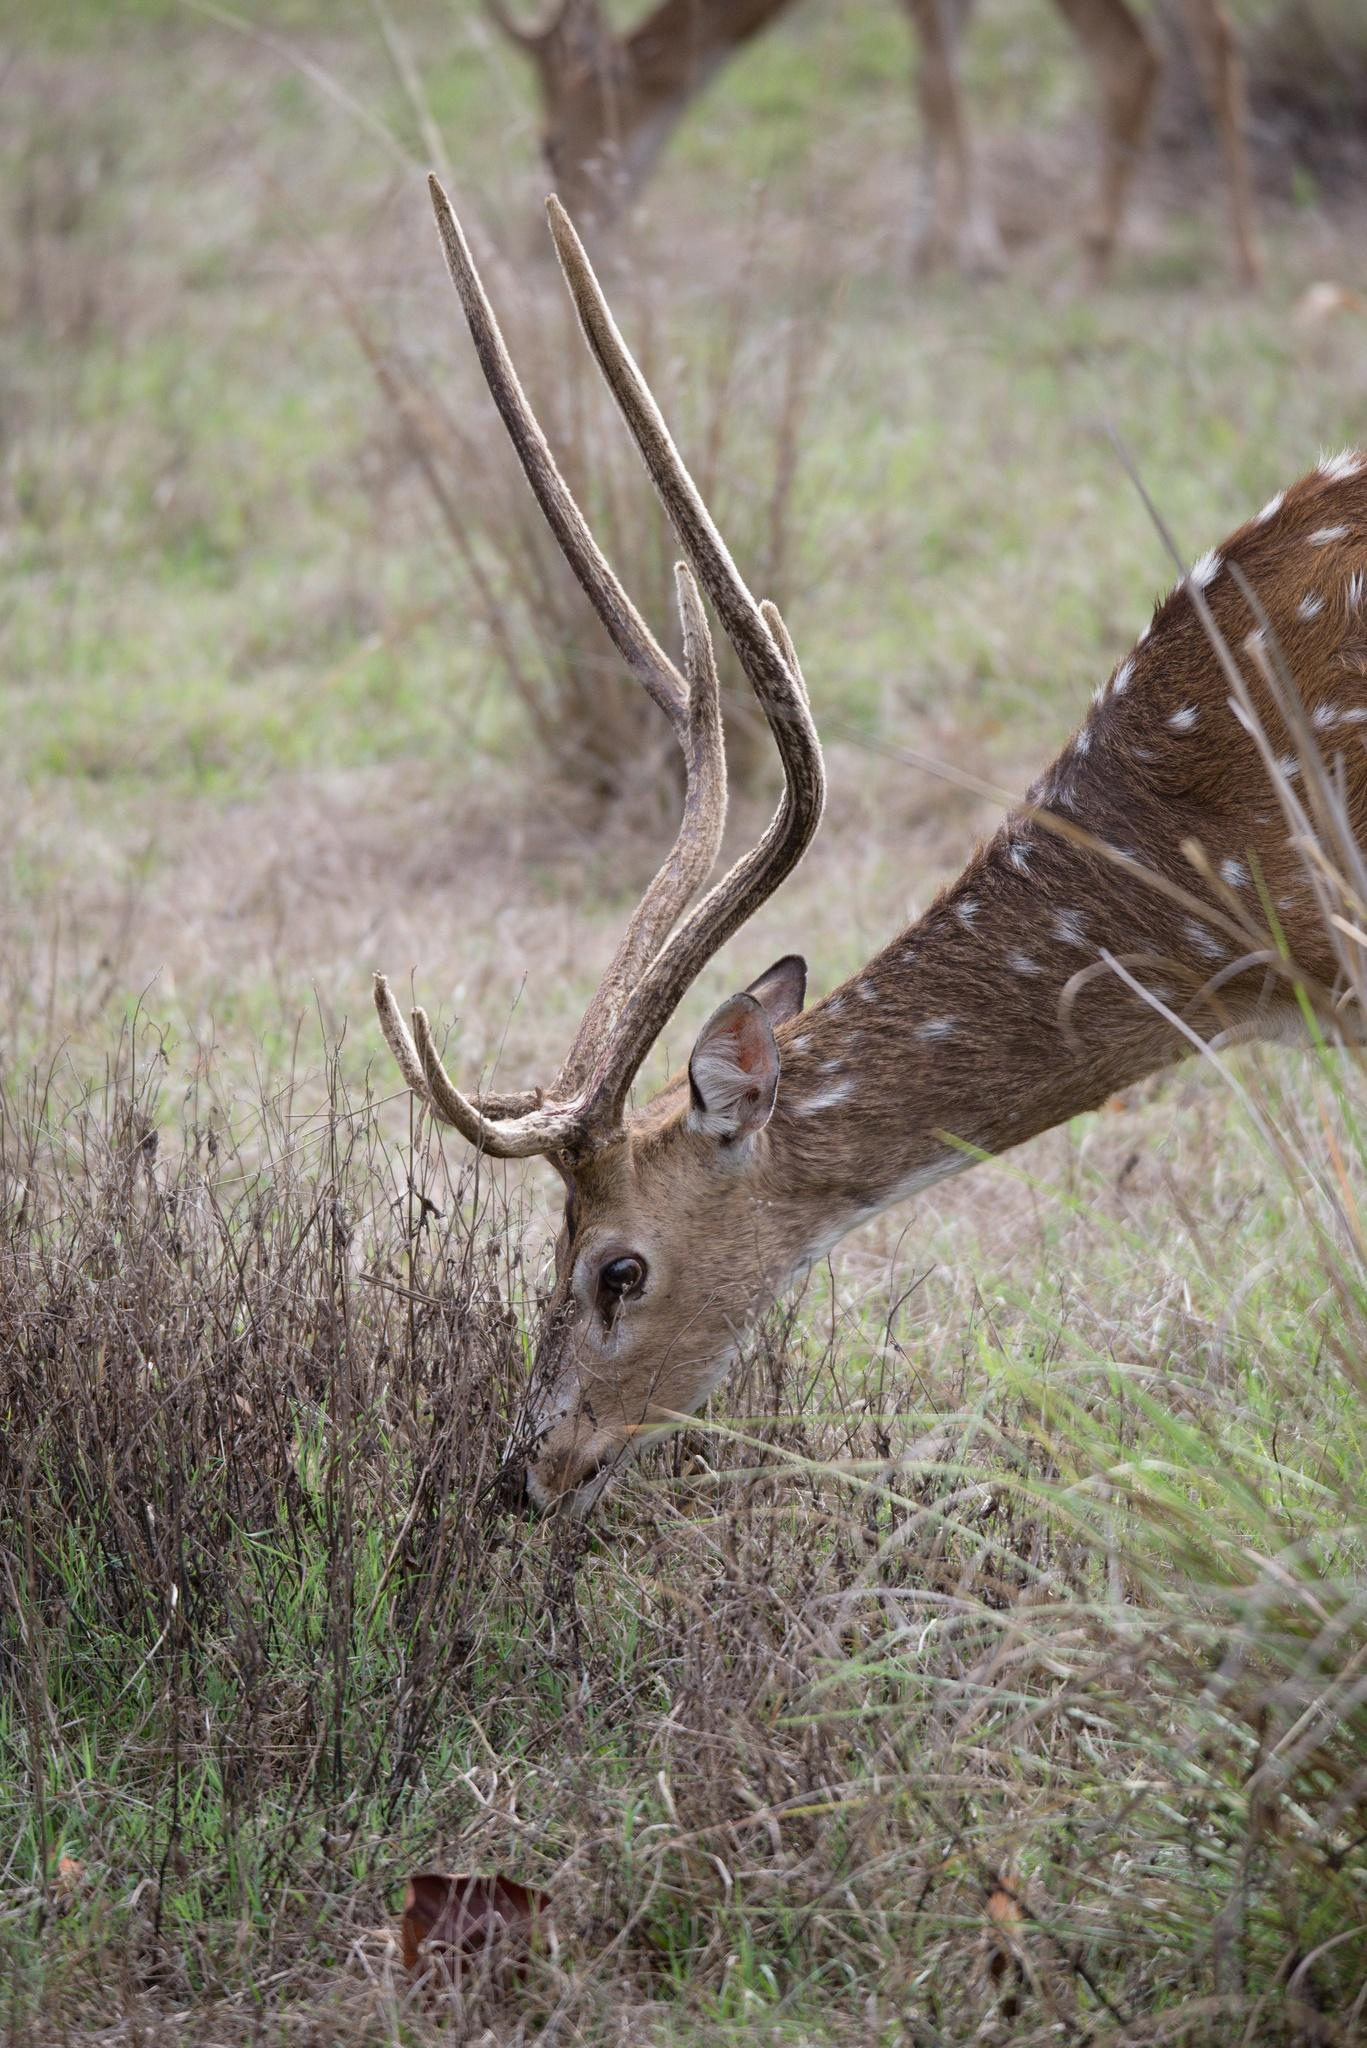Deer: (374, 177, 1365, 1507)
